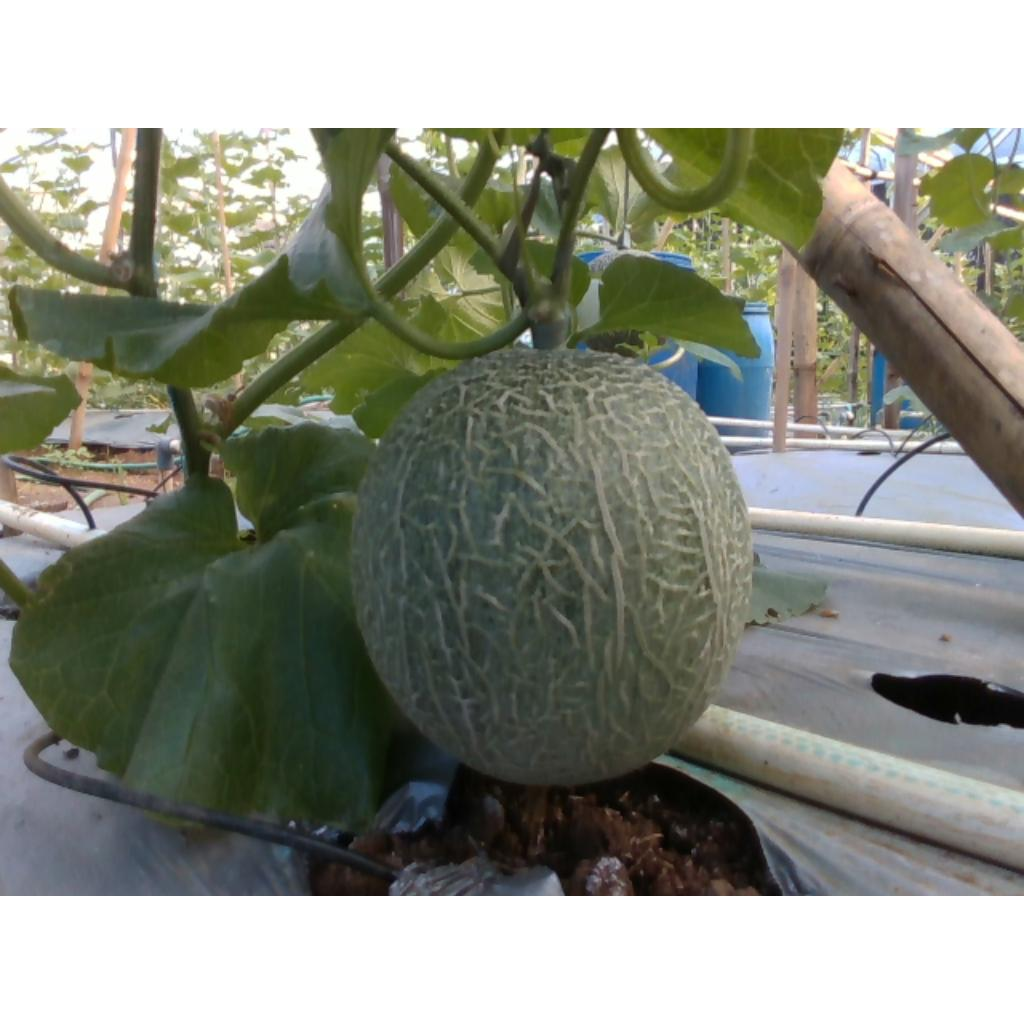melon: (354, 350, 754, 785)
